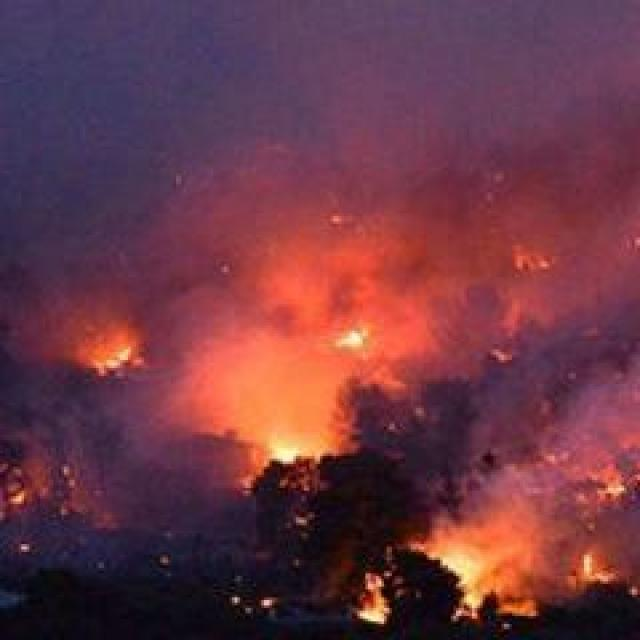Smoke: (112, 0, 640, 485)
